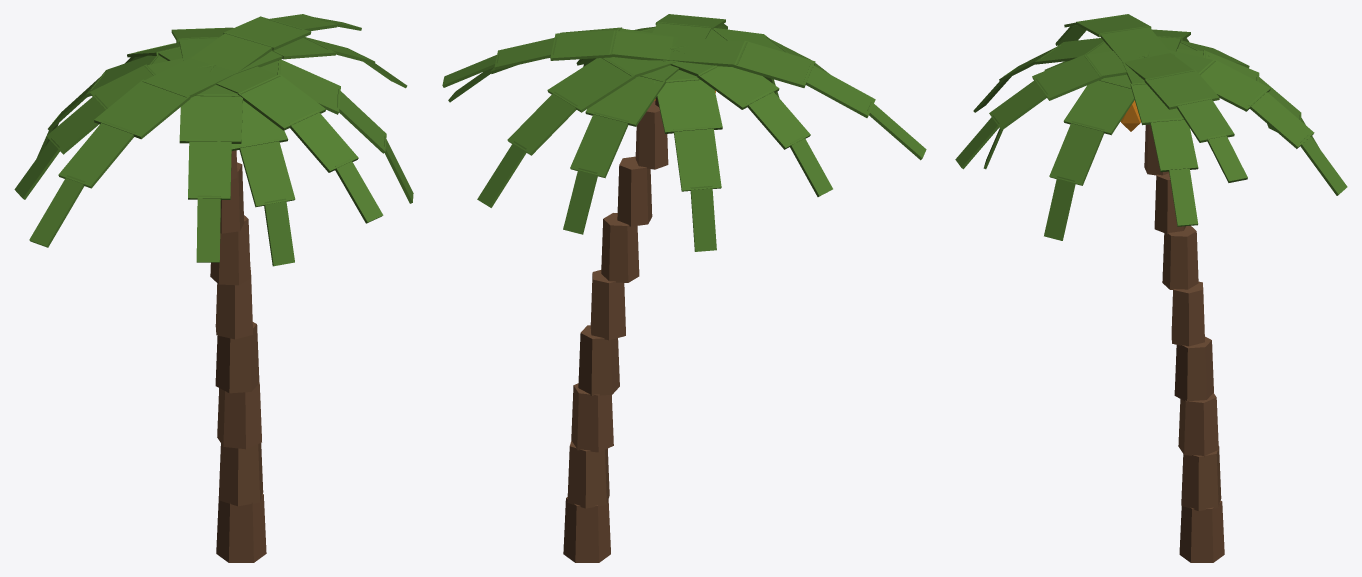
File: palm_c.glb
3 views of the same model, side by side, from view 1: azimuth 30°, elevation 25°; view 2: azimuth 150°, elevation 25°; view 3: azimuth 270°, elevation 25° (orthographic). The views are drawn at different scales.
Visible parts, largest first — view 1: Palm; view 2: Palm; view 3: Palm.
Boxes of the visible parts, bbox=[...] form: Palm: bbox=[14, 14, 413, 562]; Palm: bbox=[442, 14, 926, 562]; Palm: bbox=[955, 14, 1347, 562].
Size of the model in its own units: 6.44 by 7.48 by 5.6.
